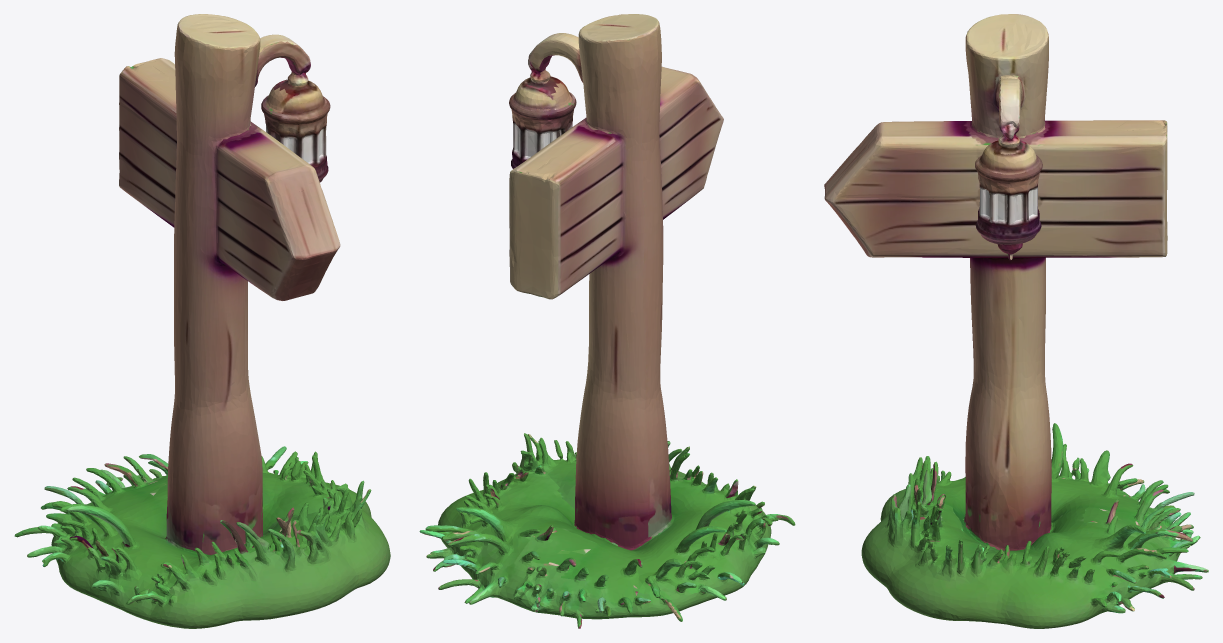
The model's file is wooden_direction_signpost.glb.
The picture shows the model from 3 angles, left to right: view 1: azimuth 30°, elevation 25°; view 2: azimuth 150°, elevation 25°; view 3: azimuth 270°, elevation 25°; orthographic projection. The views are drawn at different scales.
Visible parts, largest first — view 1: tmp1cn25130.ply; view 2: tmp1cn25130.ply; view 3: tmp1cn25130.ply.
Part boxes in pixels (<box>): tmp1cn25130.ply: <box>14,14,390,628</box>; tmp1cn25130.ply: <box>419,14,795,628</box>; tmp1cn25130.ply: <box>824,14,1208,628</box>.
Size of the model in its own units: 1.21 by 1.99 by 1.32.
1 material, 1 textured.
